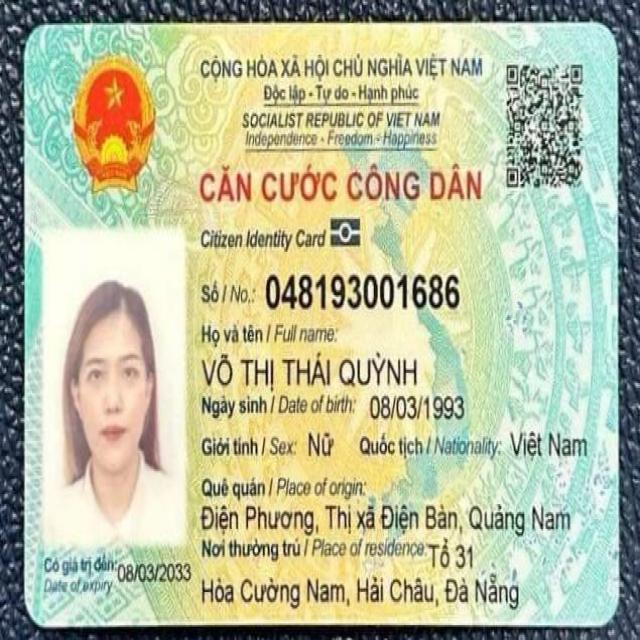current_place: (198, 568, 523, 614), (426, 535, 484, 573)
dob: (368, 389, 466, 420)
expire_date: (117, 558, 195, 587)
gender: (304, 421, 336, 462)
id: (264, 271, 461, 309)
name: (201, 348, 422, 390)
nationality: (505, 424, 589, 462)
origin_place: (201, 498, 575, 539)
